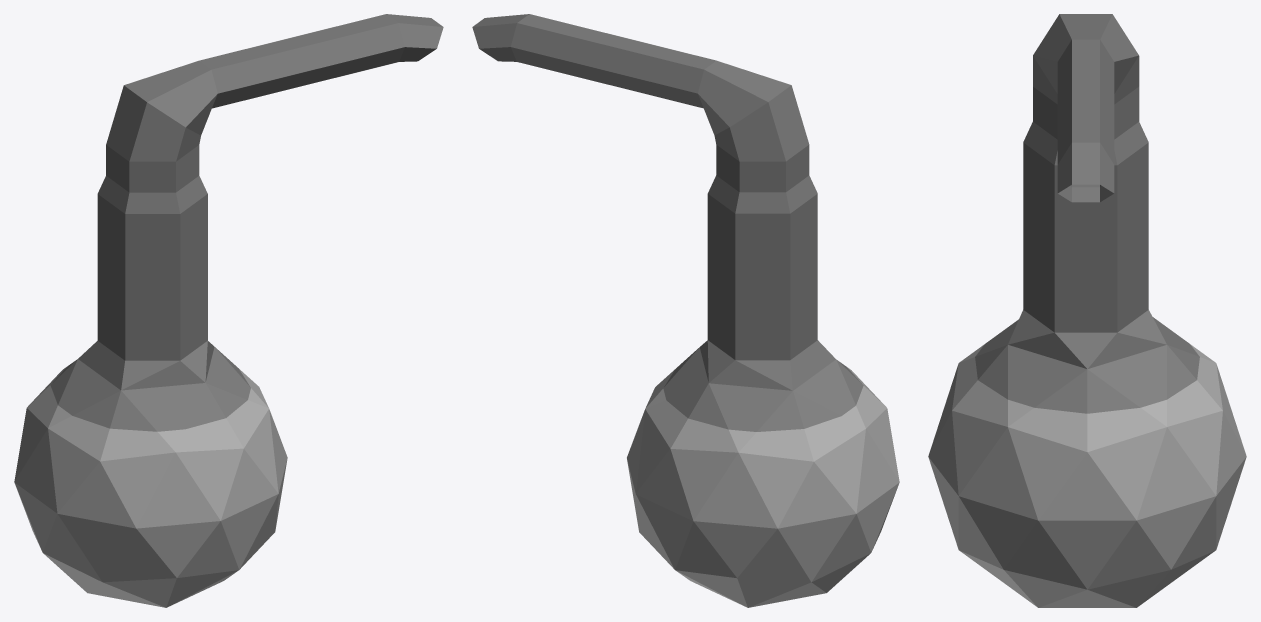
The model's file is alchemist_aparatus_749x24.gltf.
The picture shows the model from 3 angles, left to right: view 1: azimuth 30°, elevation 25°; view 2: azimuth 150°, elevation 25°; view 3: azimuth 270°, elevation 25°; orthographic projection. The views are drawn at different scales.
Visible parts, largest first — view 1: alchemist_aparatus_749x24; view 2: alchemist_aparatus_749x24; view 3: alchemist_aparatus_749x24.
Part boxes in pixels (x1=…): alchemist_aparatus_749x24: x1=14, y1=14, x2=443, y2=607; alchemist_aparatus_749x24: x1=472, y1=14, x2=899, y2=607; alchemist_aparatus_749x24: x1=928, y1=14, x2=1246, y2=607.
Bounding box in the file's own units: 0.8656 × 1.07 × 0.5225.
Materials: 2 (2 with a texture image).
